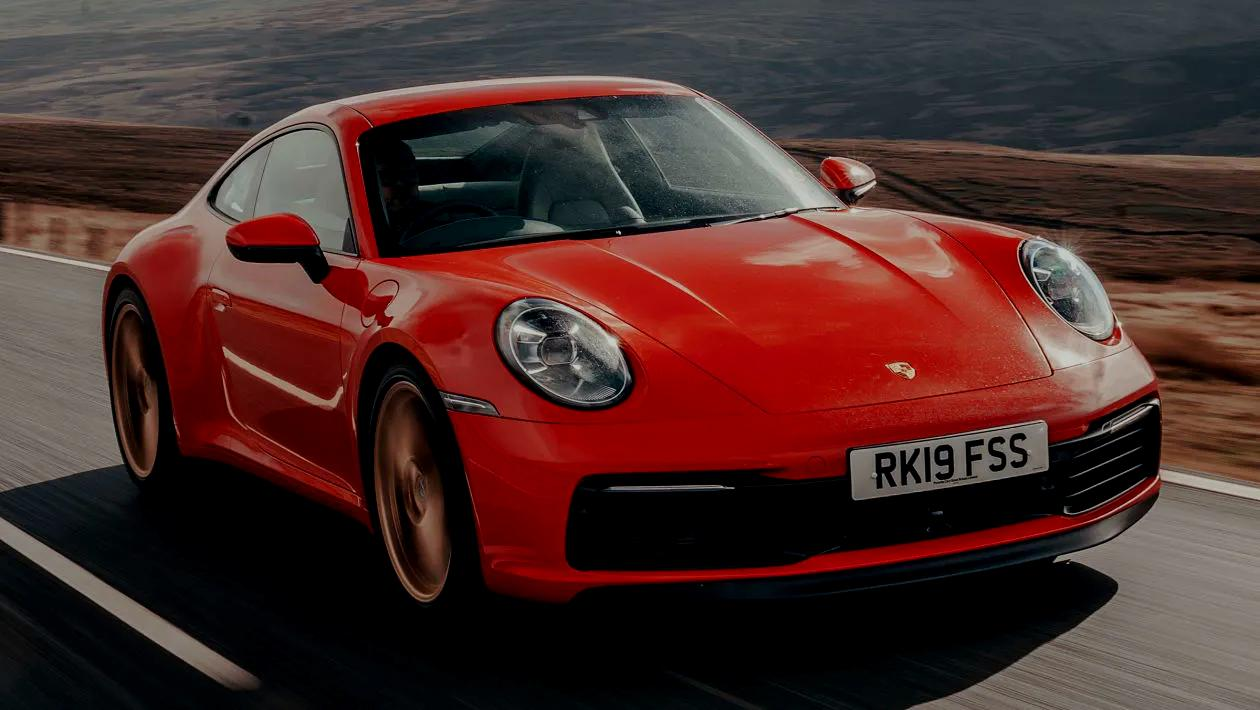porsche: (877, 350, 926, 391)
